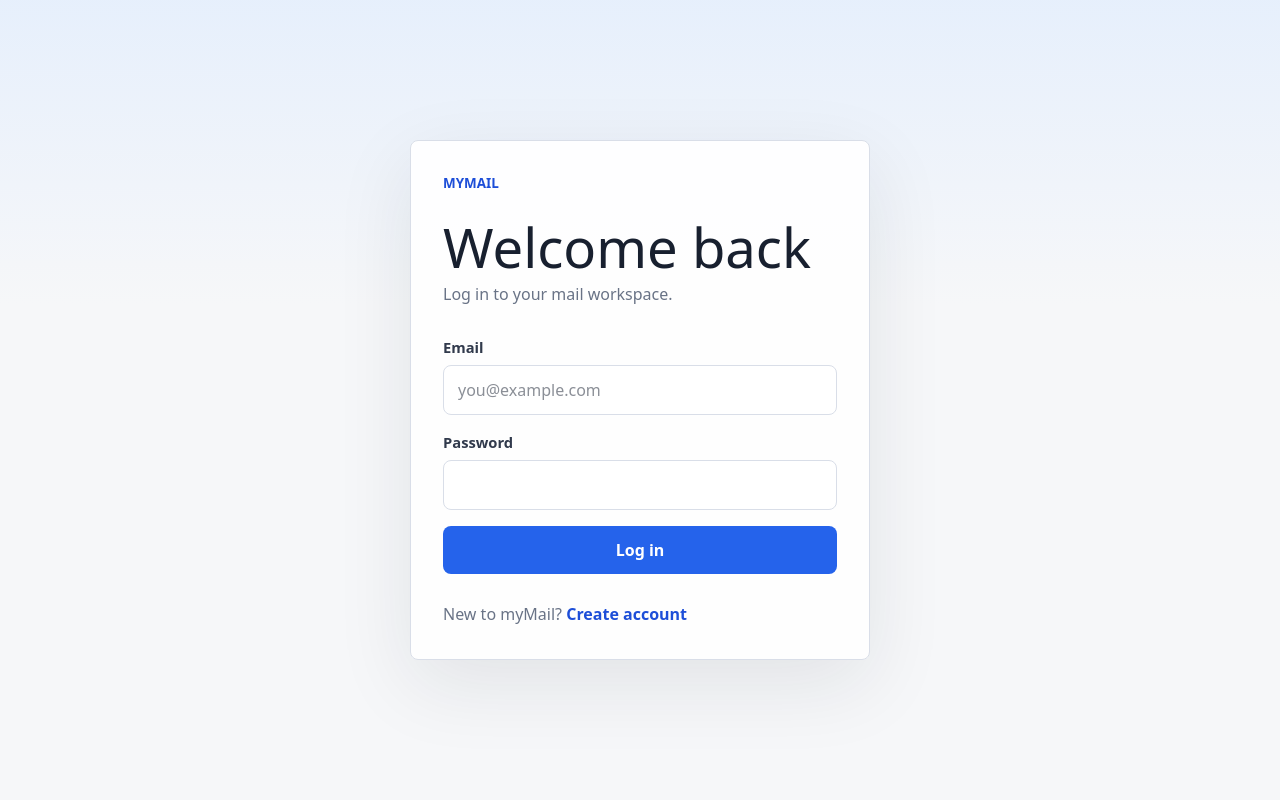
does not expose an arbitrary error body when the service is unavailable
Type "review@example.com" into the field labelled "Email".
click(640, 390); type("review@example.com")  # box [443,365,837,415]
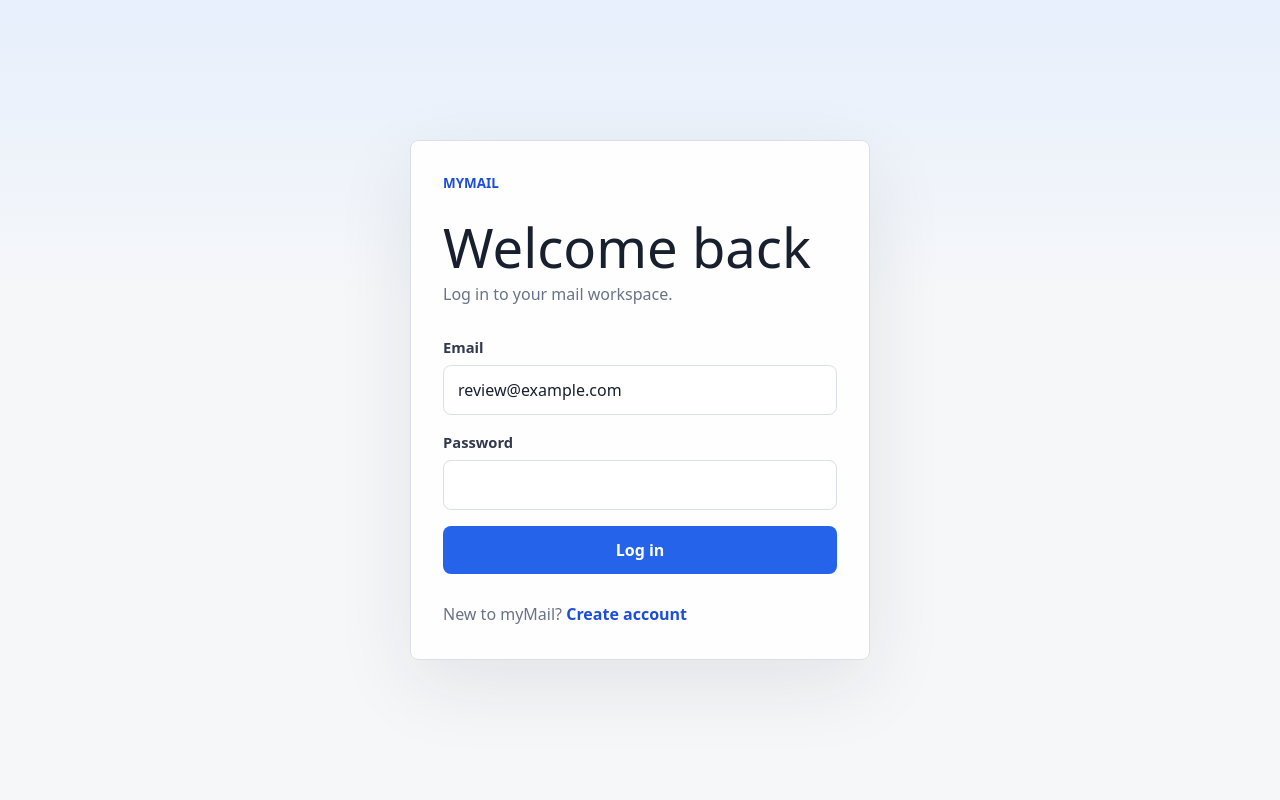
Type "password" into the password field labelled "Password".
click(640, 485); type("password")  # box [443,460,837,510]
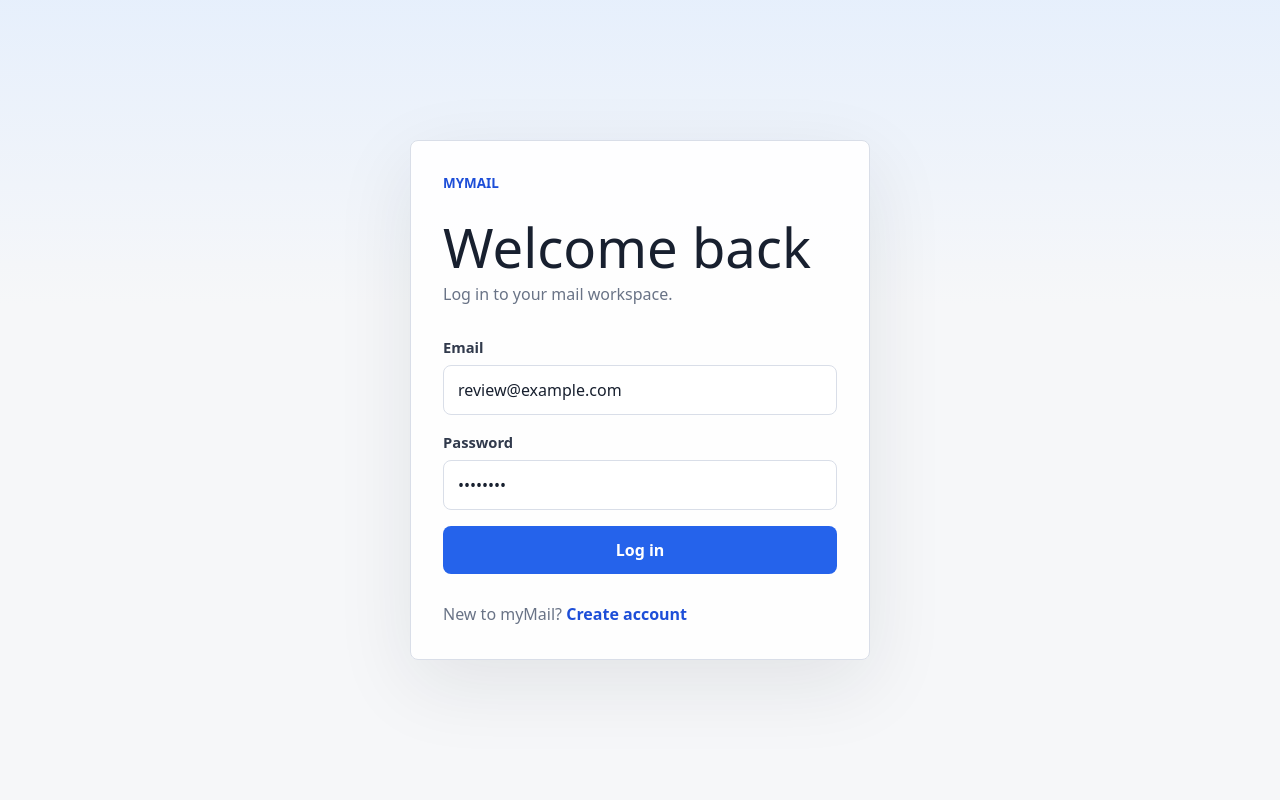
Submit the form "Log in", box [443,336,837,574]
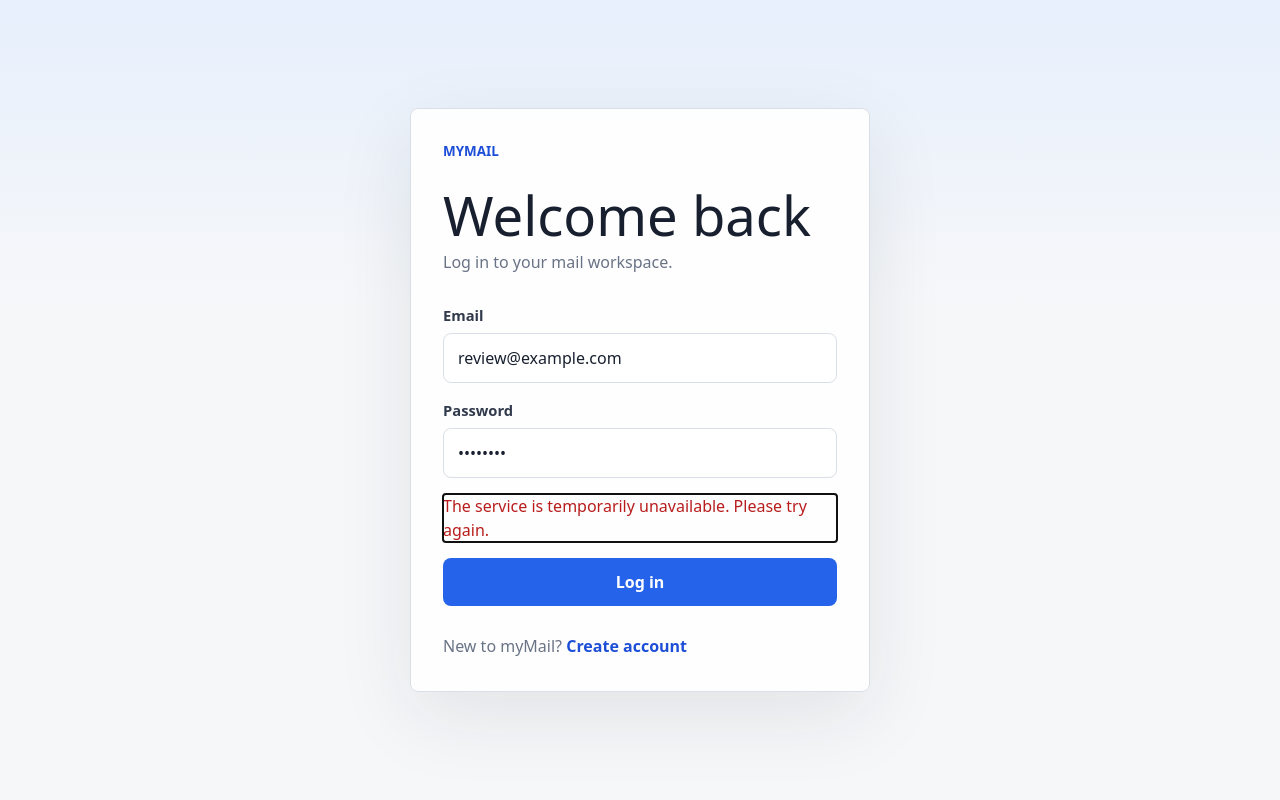
Result: the message shows "temporarily unavailable" at [443,495,807,541]
